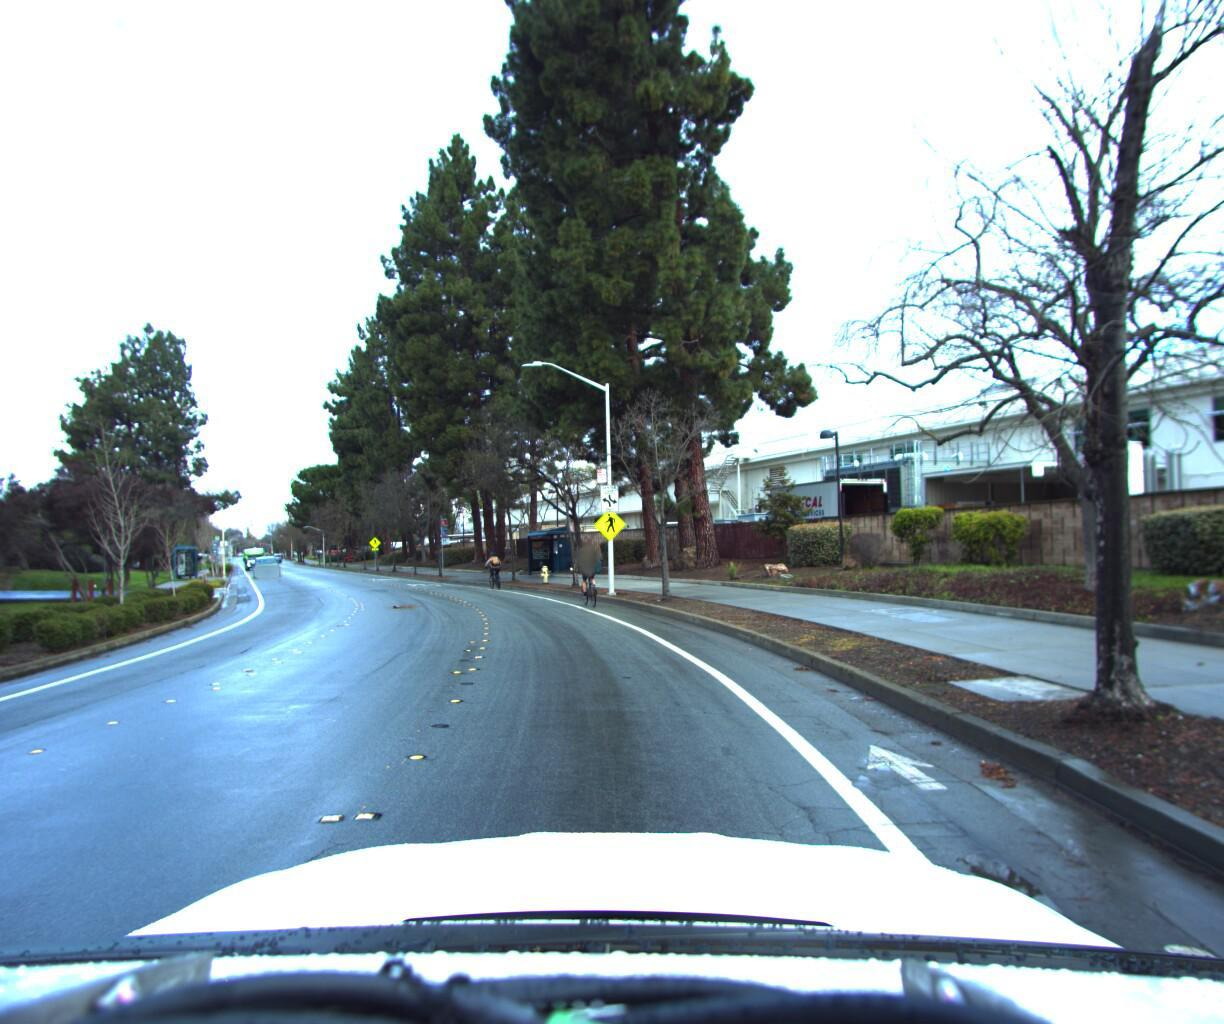bicycle: (559, 546, 605, 614), (478, 549, 508, 590)
car: (254, 557, 282, 580)
truck: (751, 476, 896, 559)
